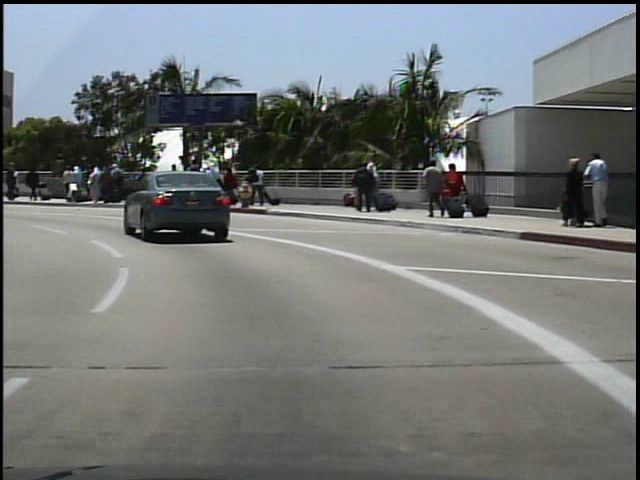person: (582, 150, 615, 229), (557, 156, 587, 232), (420, 159, 447, 223), (351, 159, 375, 216), (443, 161, 465, 217), (4, 157, 23, 202), (252, 161, 269, 208), (24, 165, 42, 203), (11, 165, 28, 203)
